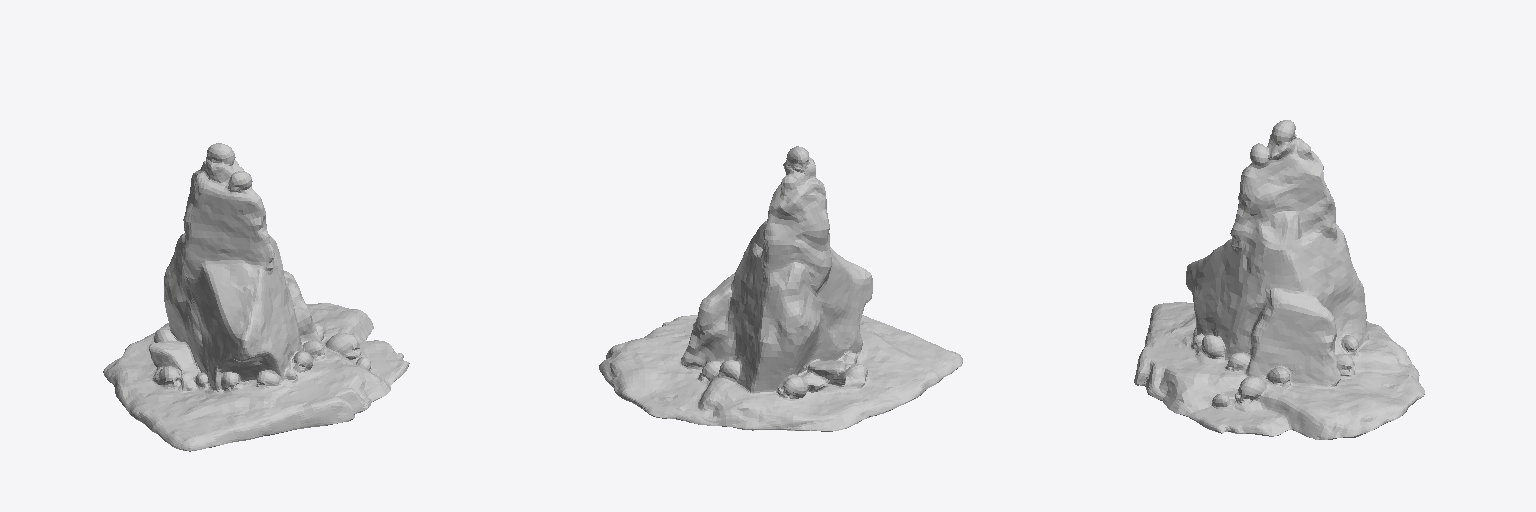
File: Skull_Mountain.obj
3 renders of one model, left to right at view 1: azimuth 30°, elevation 25°; view 2: azimuth 150°, elevation 25°; view 3: azimuth 270°, elevation 25°, orthographic.
Visible parts, largest first — view 1: Skull_Mountain; view 2: Skull_Mountain; view 3: Skull_Mountain.
Part boxes in pixels (x1,y1,x2,y2): Skull_Mountain: (103, 143, 409, 451); Skull_Mountain: (599, 146, 962, 431); Skull_Mountain: (1134, 120, 1424, 439).
Bounding box in the file's own units: 845 × 692 × 771.